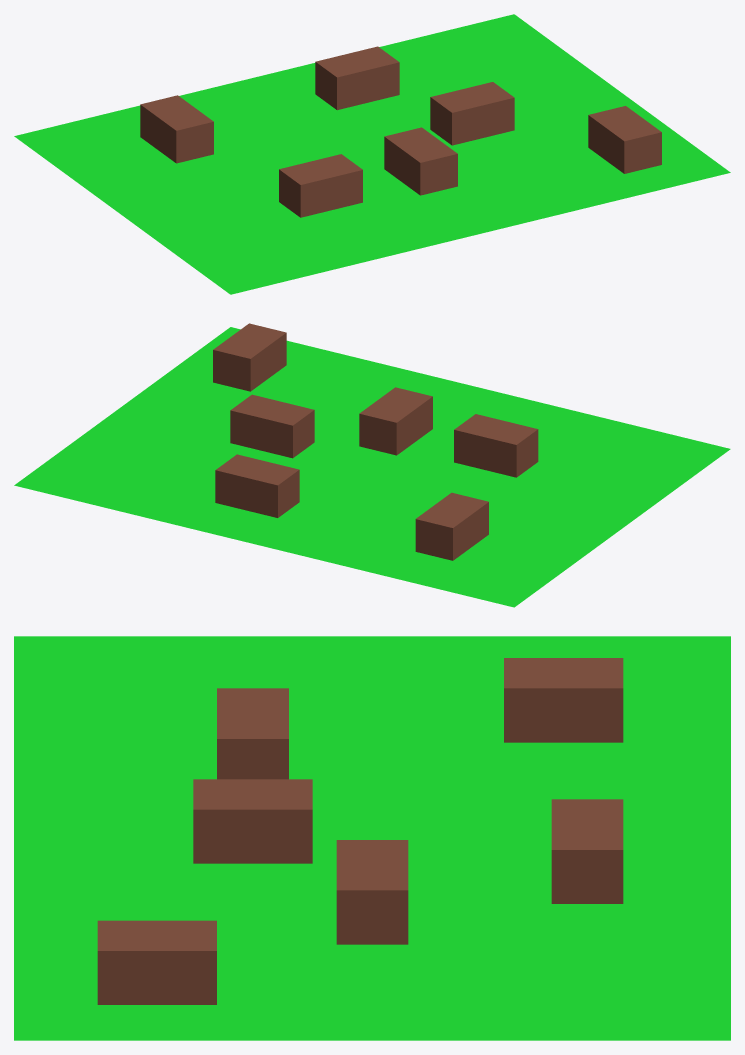
The model's file is map.glb.
The picture shows the model from 3 angles, top to bottom: view 1: azimuth 30°, elevation 25°; view 2: azimuth 150°, elevation 25°; view 3: azimuth 270°, elevation 25°; orthographic projection. The views are drawn at different scales.
Parts seen in each view (by area): view 1: Plane, Cube.004, Cube, Cube.003, Cube.001, Cube.002, Cube.005; view 2: Plane, Cube.003, Cube, Cube.004, Cube.001, Cube.002, Cube.005; view 3: Plane, Cube.001, Cube.002, Cube.005, Cube, Cube.004, Cube.003.
Boxes of the visible parts, x1,y1,x2,y2 form: Plane: (14,14,730,294); Cube.004: (315,46,399,110); Cube: (430,82,514,145); Cube.003: (279,154,362,217); Cube.001: (384,127,457,195); Cube.002: (140,95,213,163); Cube.005: (588,106,661,173); Plane: (14,327,730,607); Cube.003: (454,414,538,477); Cube: (230,394,314,458); Cube.004: (215,454,299,517); Cube.001: (359,387,432,455); Cube.002: (415,492,488,560); Cube.005: (213,323,286,391); Plane: (14,636,730,1040); Cube.001: (193,779,312,863); Cube.002: (504,658,623,742); Cube.005: (97,920,216,1004); Cube: (336,840,408,944); Cube.004: (551,799,623,903); Cube.003: (217,688,288,779).
Bounding box in the file's own units: 40 × 2.5 × 30.
